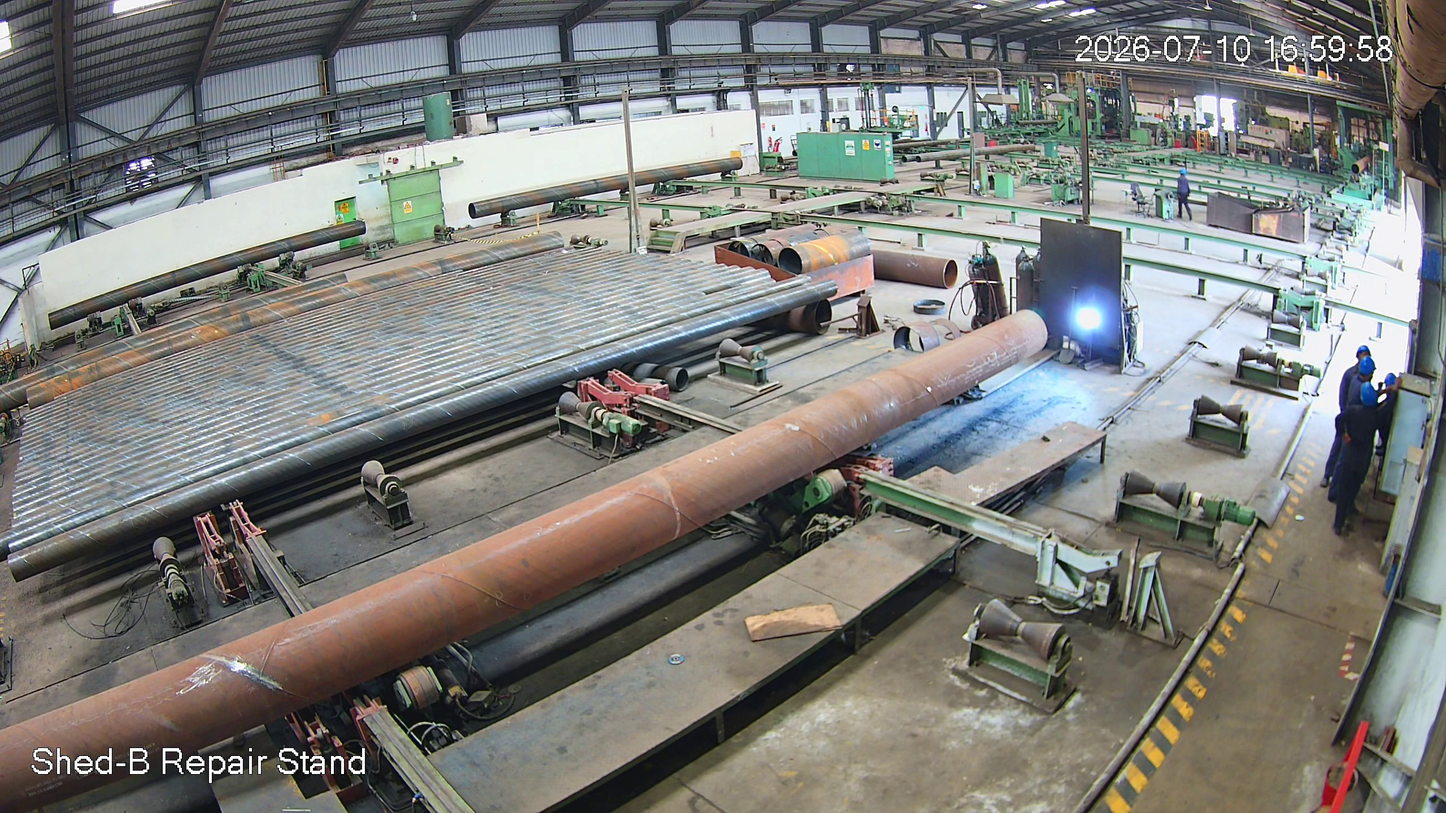Helmet: (1353, 339, 1377, 386), (1356, 381, 1379, 422)
Person: (1329, 387, 1378, 537), (1331, 341, 1373, 457)
